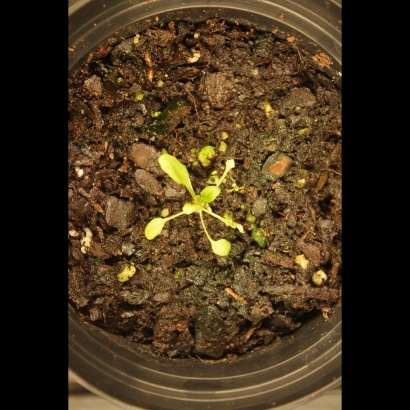leaf: (147, 149, 199, 194), (142, 212, 180, 250), (202, 234, 240, 262), (199, 179, 235, 204), (177, 200, 200, 223)
